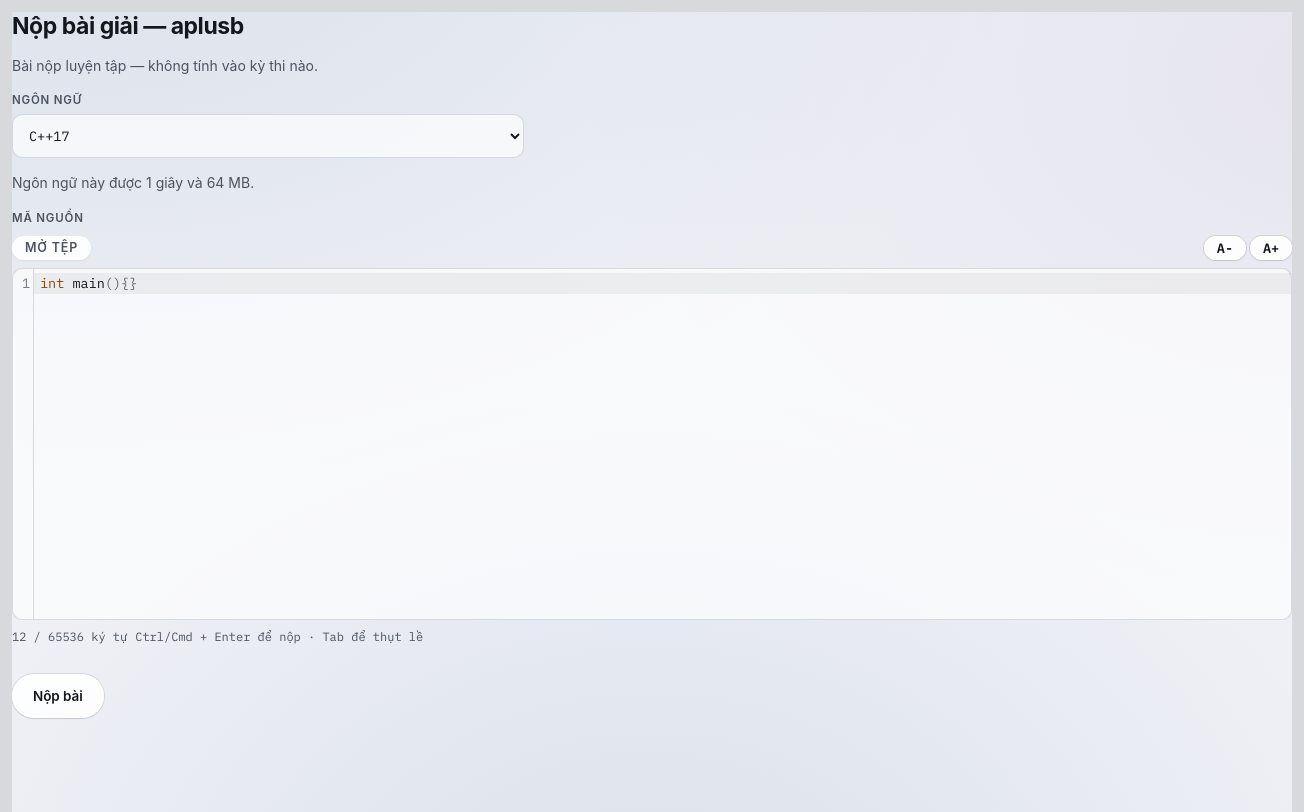
SubmitPage on a 429 › says how long to wait, in the reader's language, and disables the button
Click the button "Nộp bài" at (58, 696), box x1=12 y1=674 x2=104 y2=718
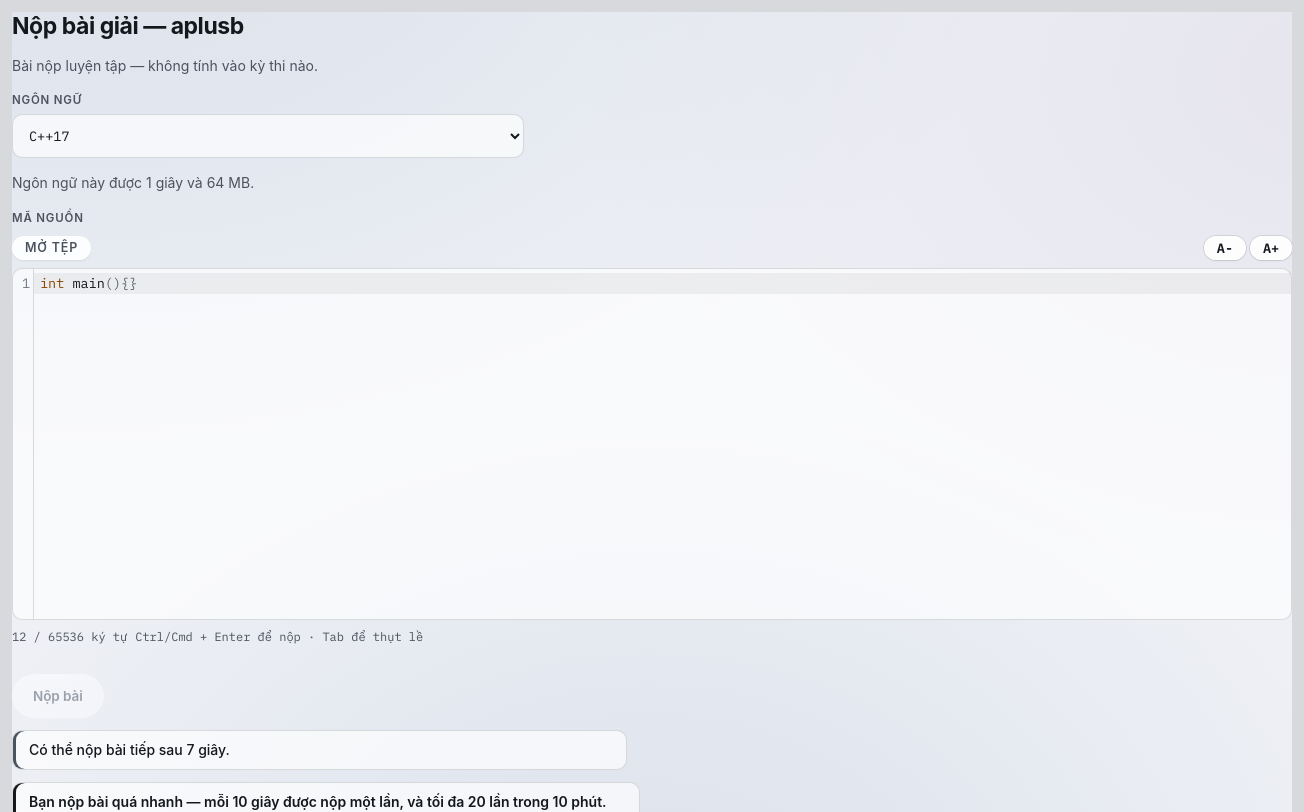
Now the button "Nộp bài" is disabled, box x1=12 y1=674 x2=104 y2=718
Now the message "Có thể nộp bài tiếp sau 7 giây." is shown, box x1=12 y1=730 x2=626 y2=770
